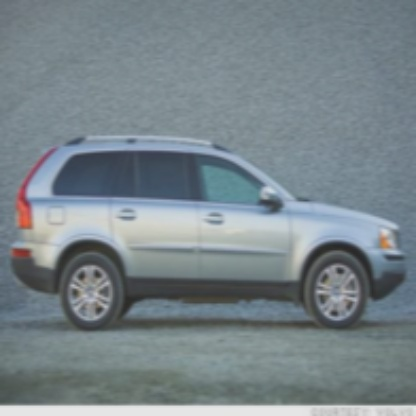Vehicle: (11, 135, 410, 332)
